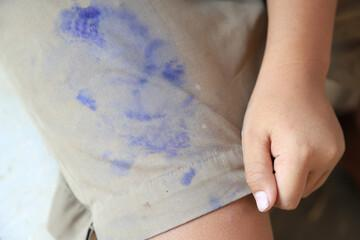gun: (53, 9, 207, 178), (203, 188, 227, 206)
